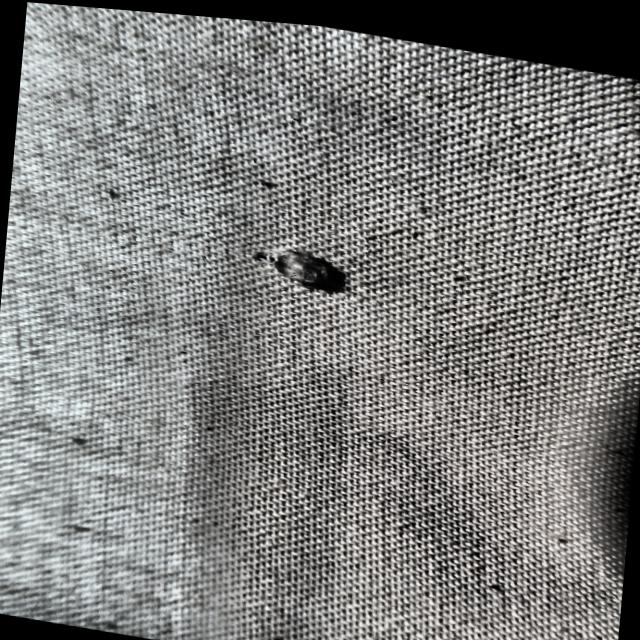Hole: (222, 215, 364, 300)
